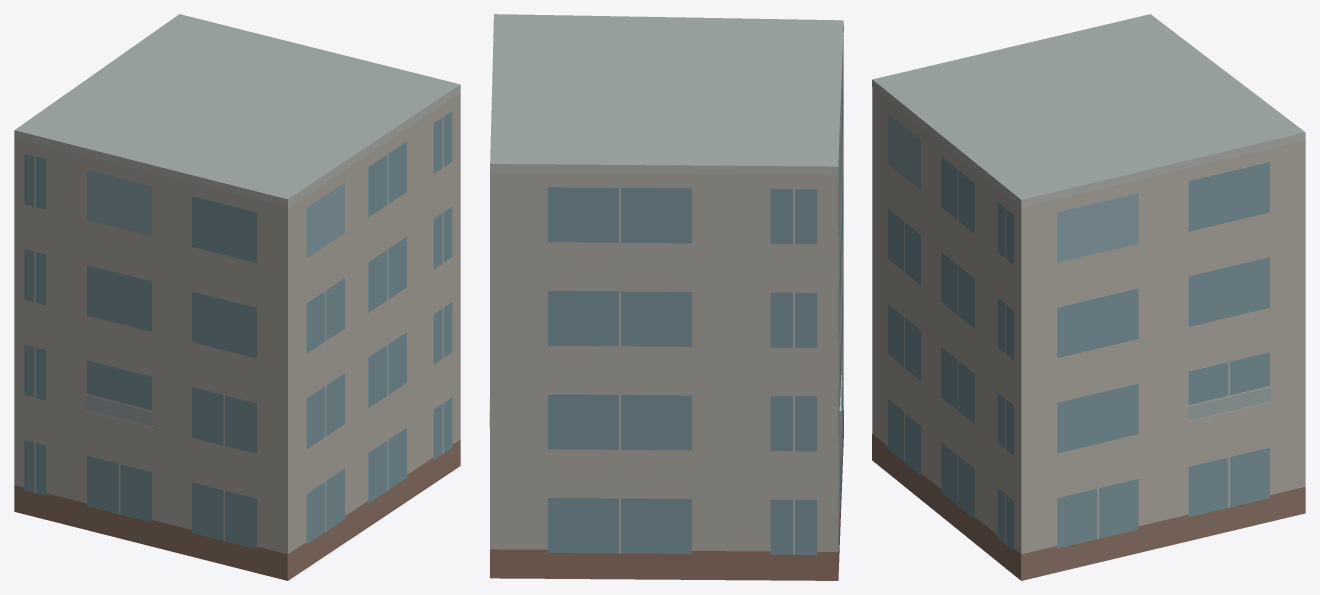
File: survey-upis-32776607.glb
3 views of the same model, side by side, from view 1: azimuth 30°, elevation 25°; view 2: azimuth 150°, elevation 25°; view 3: azimuth 270°, elevation 25° (orthographic). The views are drawn at different scales.
Parts seen in each view (by area): view 1: survey-upis-32776607.tmp; view 2: survey-upis-32776607.tmp; view 3: survey-upis-32776607.tmp.
Part boxes in pixels (<box>): survey-upis-32776607.tmp: <box>14,14,460,580</box>; survey-upis-32776607.tmp: <box>489,14,843,580</box>; survey-upis-32776607.tmp: <box>872,14,1305,580</box>.
Size of the model in its own units: 12.21 by 11.65 by 12.02.
